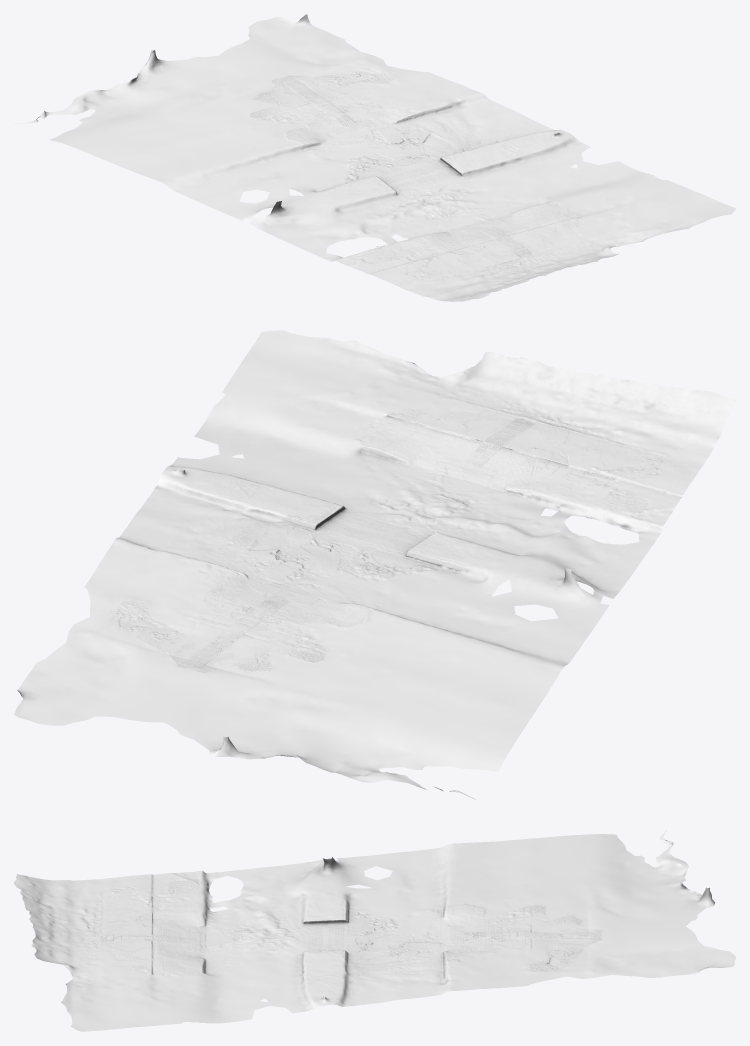
Rendered from HjaKronunniBlindView-transformed.glb.
3 views of the same model, one above another, from view 1: azimuth 30°, elevation 25°; view 2: azimuth 150°, elevation 25°; view 3: azimuth 270°, elevation 25° (orthographic). The views are drawn at different scales.
Visible parts, largest first — view 1: Mesh_0; view 2: Mesh_0; view 3: Mesh_0.
Part boxes in pixels (<box>): Mesh_0: <box>14,14,735,301</box>; Mesh_0: <box>14,330,735,799</box>; Mesh_0: <box>14,830,735,1031</box>.
Size of the model in its own units: 24.42 by 1.14 by 33.82.
Materials: 1 (1 with a texture image).
